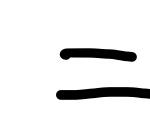eqv: (56, 47, 150, 101)
